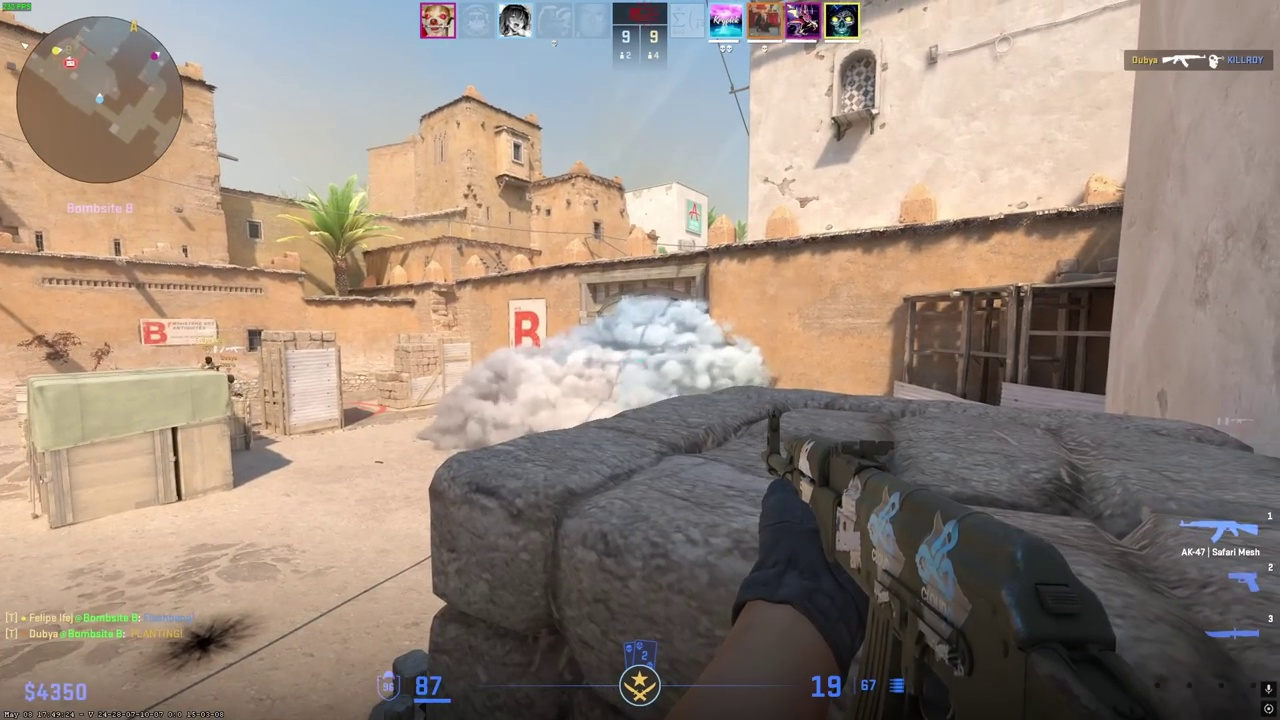Terrorist: (227, 374, 238, 398), (203, 354, 216, 368)
